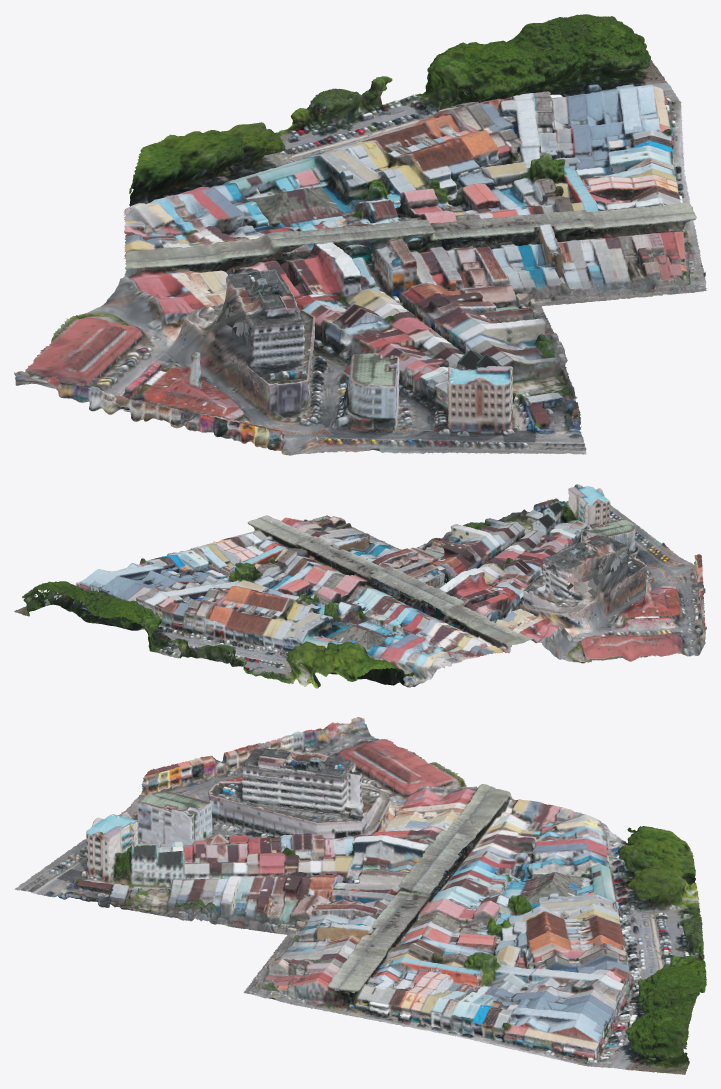
The model's file is india_street_kuching_sarawak__oss.glb.
3 renders of one model, top to bottom at view 1: azimuth 30°, elevation 25°; view 2: azimuth 150°, elevation 25°; view 3: azimuth 270°, elevation 25°, orthographic. The views are drawn at different scales.
Parts seen in each view (by area): view 1: Stereo textured mesh; view 2: Stereo textured mesh; view 3: Stereo textured mesh.
Part boxes in pixels (x1,y1,x2,y2): Stereo textured mesh: (14,14,706,455); Stereo textured mesh: (14,484,706,688); Stereo textured mesh: (14,717,706,1074).
Size of the model in its own units: 6.49 by 0.6284 by 5.56.
Materials: 1 (1 with a texture image).
